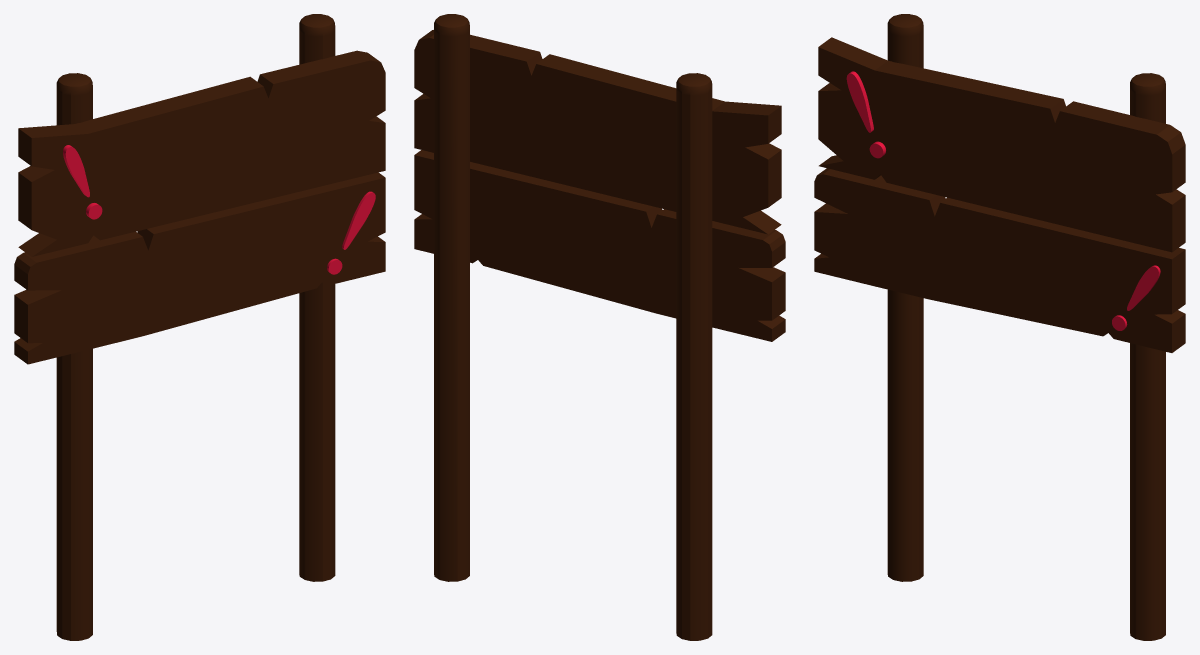
Rendered from DangerSign.fbx.
3 renders of one model, left to right at view 1: azimuth 30°, elevation 25°; view 2: azimuth 150°, elevation 25°; view 3: azimuth 330°, elevation 25°, orthographic.
Parts seen in each view (by area): view 1: Cube, Cube.001, Cylinder.001, Cylinder.002, unlem, unlem1; view 2: Cube, Cube.001, Cylinder.002, Cylinder.001; view 3: Cube, Cube.001, Cylinder.002, Cylinder.001, unlem1, unlem.
Boxes of the visible parts, left/top/right/bottom form: Cube: left=18, top=50, right=385, bottom=256; Cube.001: left=14, top=172, right=385, bottom=364; Cylinder.001: left=299, top=14, right=335, bottom=581; Cylinder.002: left=56, top=73, right=92, bottom=640; unlem: left=327, top=191, right=375, bottom=274; unlem1: left=63, top=145, right=102, bottom=219; Cube: left=414, top=30, right=781, bottom=234; Cube.001: left=414, top=150, right=785, bottom=341; Cylinder.002: left=676, top=73, right=712, bottom=640; Cylinder.001: left=434, top=14, right=469, bottom=581; Cube: left=818, top=37, right=1185, bottom=252; Cube.001: left=814, top=168, right=1185, bottom=352; Cylinder.002: left=887, top=14, right=923, bottom=581; Cylinder.001: left=1130, top=73, right=1165, bottom=640; unlem1: left=846, top=71, right=885, bottom=158; unlem: left=1112, top=265, right=1160, bottom=330.
Size of the model in its own units: 1056 by 1565 by 173.
